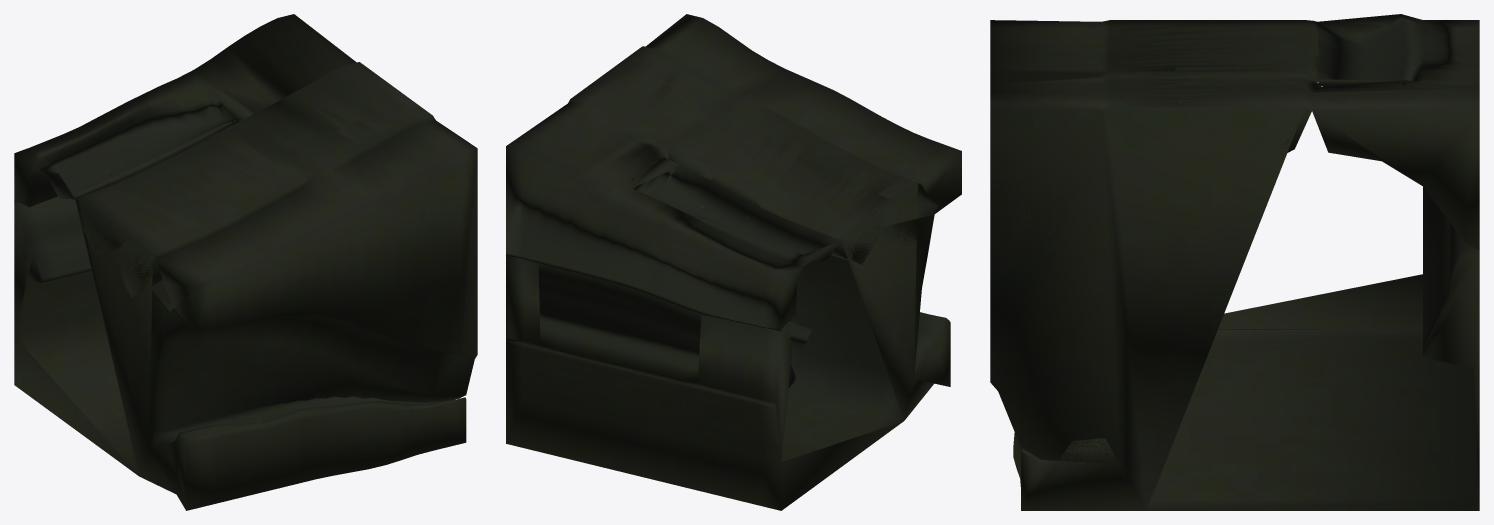
Rendered from orkadia_volcanic_cliff.glb.
The picture shows the model from 3 angles, left to right: view 1: azimuth 30°, elevation 25°; view 2: azimuth 150°, elevation 25°; view 3: azimuth 270°, elevation 25°; orthographic projection. The views are drawn at different scales.
Visible parts, largest first — view 1: tripo_node_54e659bc-e2cc-4dad-8ef1-acc6a226592a; view 2: tripo_node_54e659bc-e2cc-4dad-8ef1-acc6a226592a; view 3: tripo_node_54e659bc-e2cc-4dad-8ef1-acc6a226592a.
Part boxes in pixels (x1,y1,x2,y2): tripo_node_54e659bc-e2cc-4dad-8ef1-acc6a226592a: (14,14,477,510); tripo_node_54e659bc-e2cc-4dad-8ef1-acc6a226592a: (506,14,961,510); tripo_node_54e659bc-e2cc-4dad-8ef1-acc6a226592a: (990,14,1479,510).
Size of the model in its own units: 0.8789 by 0.9083 by 0.998.
Materials: 1 (1 with a texture image).
